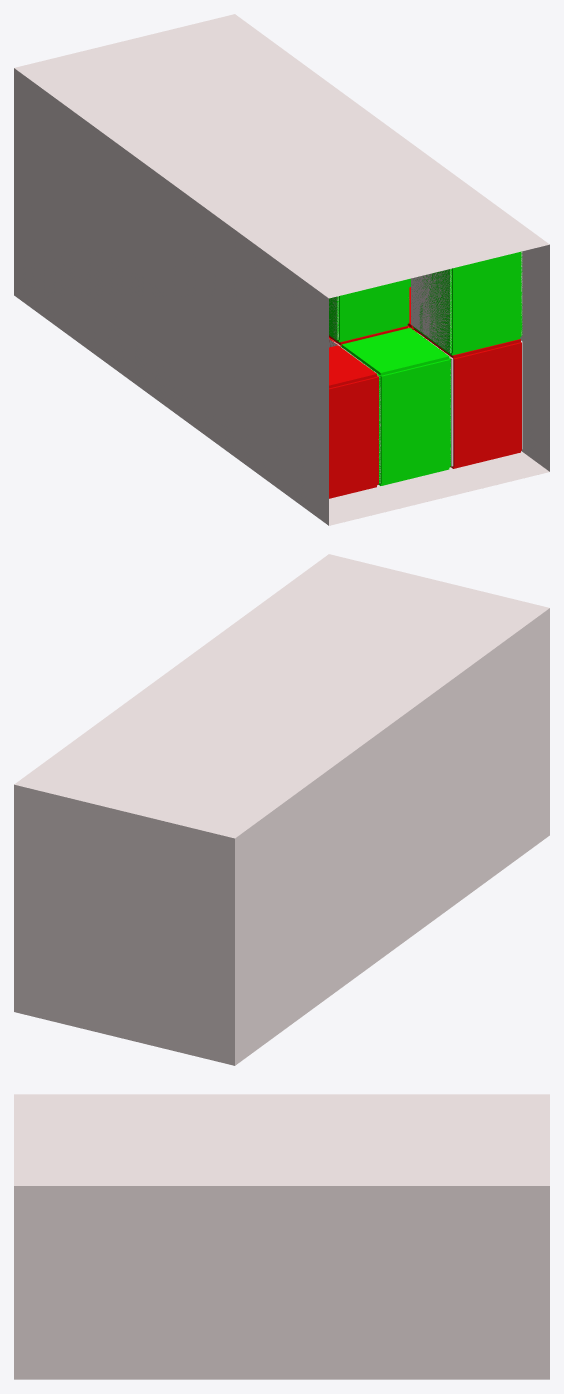
File: Boxes.fbx
The picture shows the model from 3 angles, top to bottom: view 1: azimuth 30°, elevation 25°; view 2: azimuth 150°, elevation 25°; view 3: azimuth 270°, elevation 25°; orthographic projection. The views are drawn at different scales.
Visible parts, largest first — view 1: bintop, BinIso20Bottom, binleft, front_20, front_7, front_22, binbottom, front_29, front_11, top_20, left_22, top_29; view 2: BinIso20Bottom, bintop, binback; view 3: BinIso20Bottom, binright, bintop.
Boxes of the visible parts, x1,y1,x2,y2 form: bintop: (14,14,549,298); BinIso20Bottom: (14,74,549,525); binleft: (14,68,324,515); front_20: (380,359,450,483); front_7: (453,342,521,466); front_22: (452,251,521,353); binbottom: (329,451,549,525); front_29: (329,377,378,496); front_11: (339,279,408,340); top_20: (341,328,449,375); left_22: (414,268,451,352); top_29: (329,345,376,388); BinIso20Bottom: (235,608,549,1065); bintop: (14,554,549,838); binback: (14,784,234,1065); BinIso20Bottom: (14,1186,549,1379); binright: (14,1192,549,1379); bintop: (14,1094,549,1185).
Bounding box in the file's own units: 2390 × 2350 × 5900.
